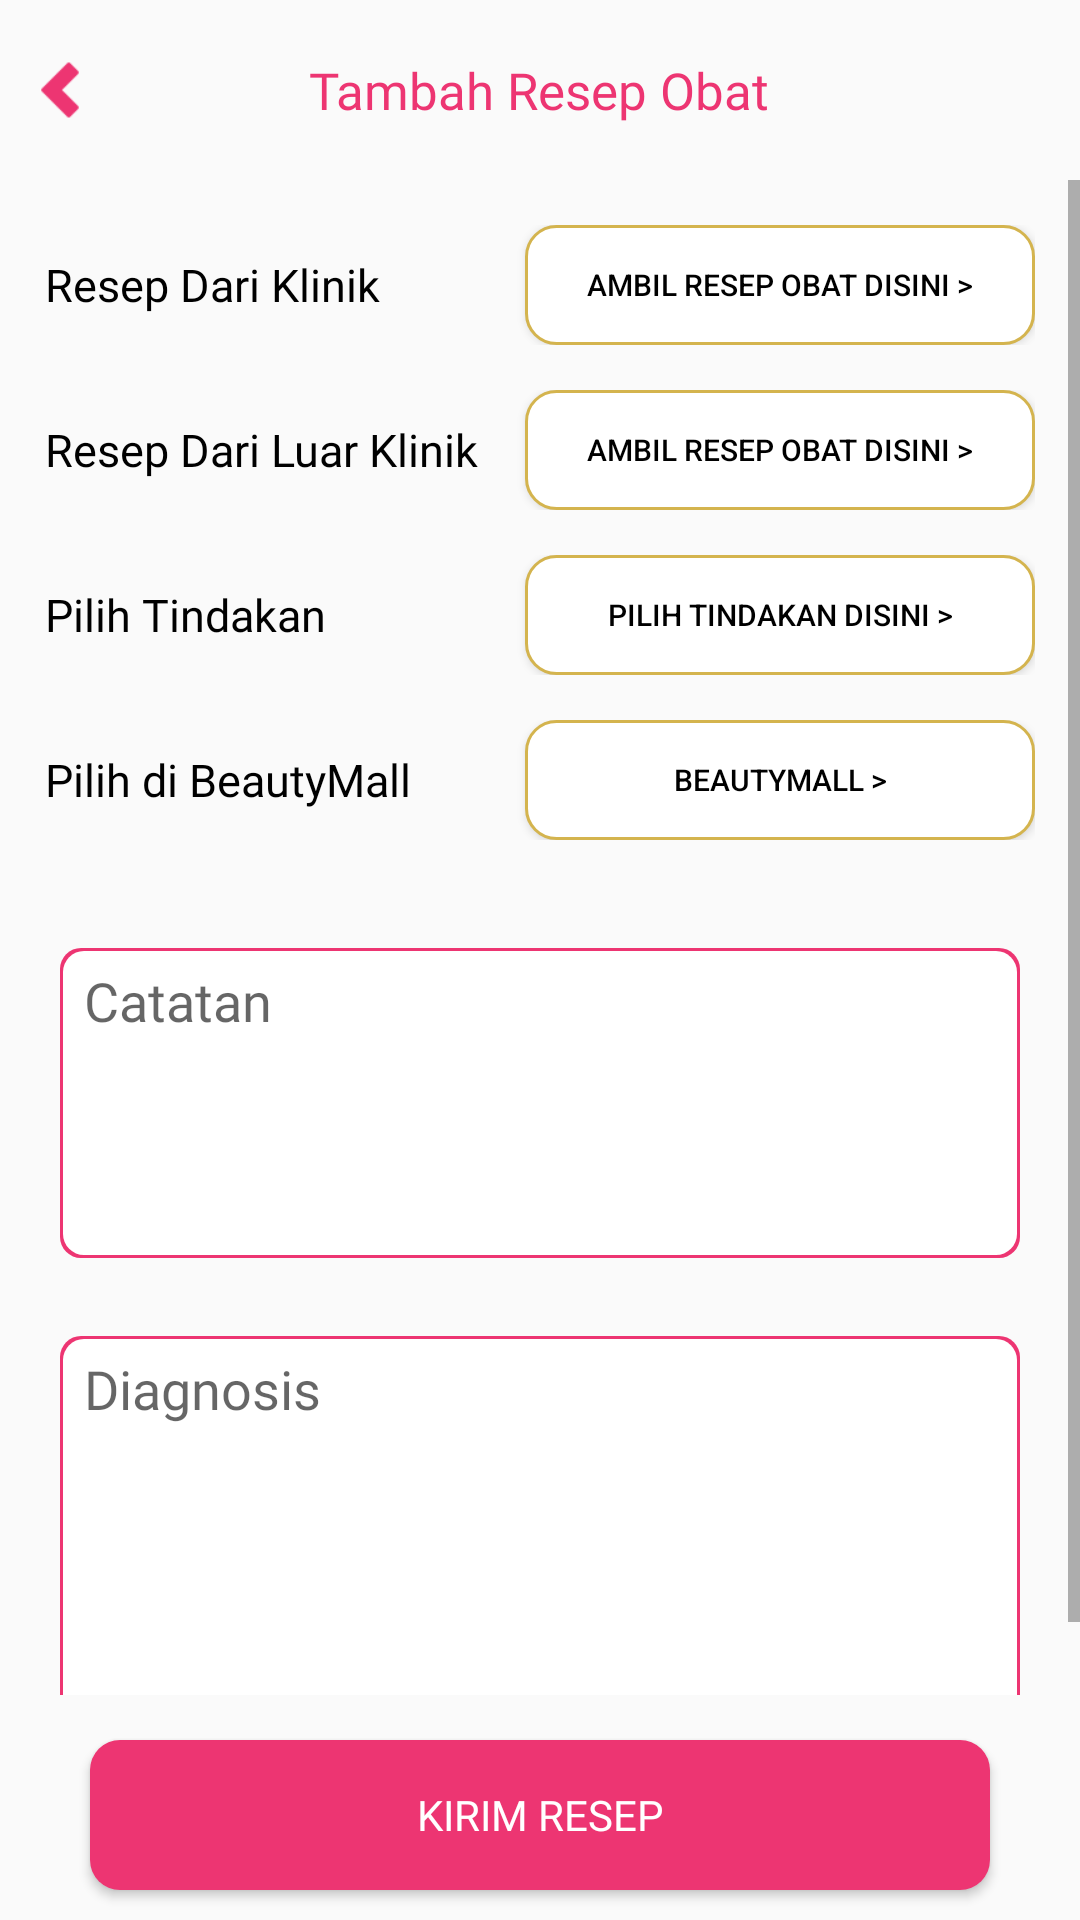

Where to tap for icons on this 1080w x 1920h app screen, as (x,y):
arrow left: (60,90)
